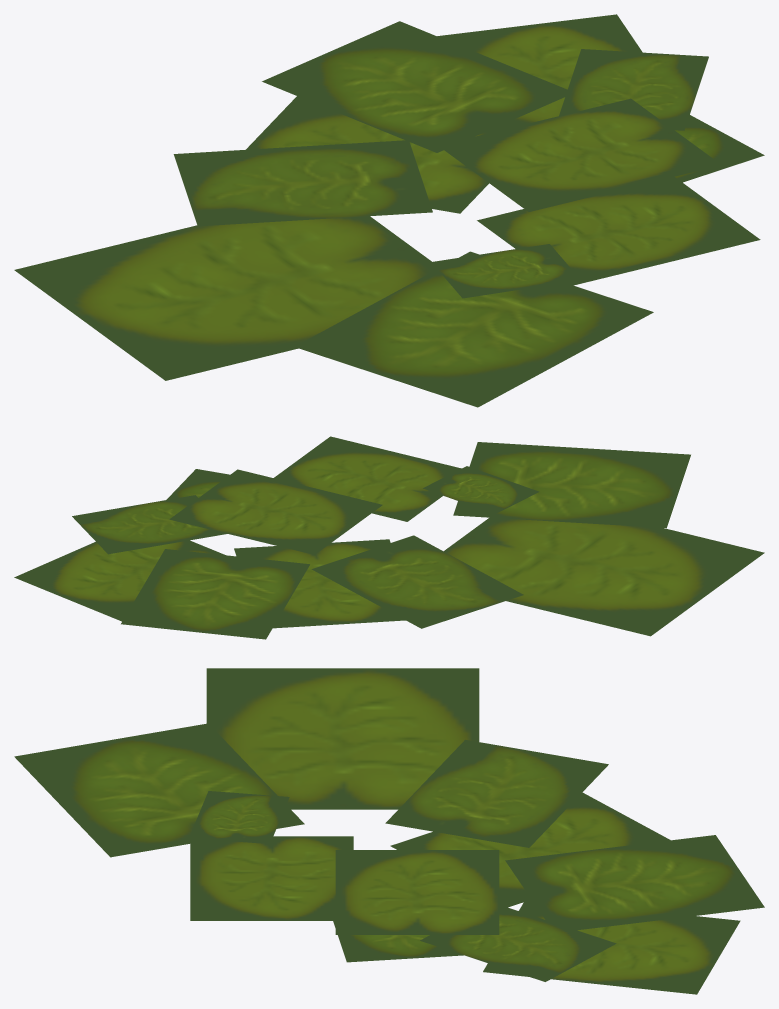
The model's file is Water_lily_08.FBX.
The picture shows the model from 3 angles, top to bottom: view 1: azimuth 30°, elevation 25°; view 2: azimuth 150°, elevation 25°; view 3: azimuth 270°, elevation 25°; orthographic projection. The views are drawn at different scales.
Parts seen in each view (by area): view 1: Water_lily_08; view 2: Water_lily_08; view 3: Water_lily_08.
Boxes of the visible parts, left/top/right/bottom form: Water_lily_08: left=14, top=14, right=764, bottom=407; Water_lily_08: left=14, top=436, right=764, bottom=639; Water_lily_08: left=14, top=668, right=764, bottom=994.
Bounding box in the file's own units: 200 × 5.16 × 198.
